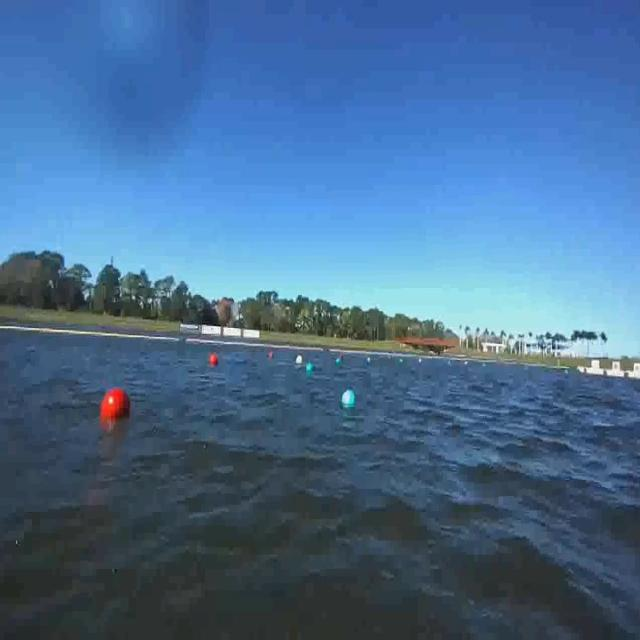green-buoy: (342, 388, 357, 408), (307, 361, 314, 374)
red-buoy: (101, 389, 133, 424), (210, 353, 219, 368)
